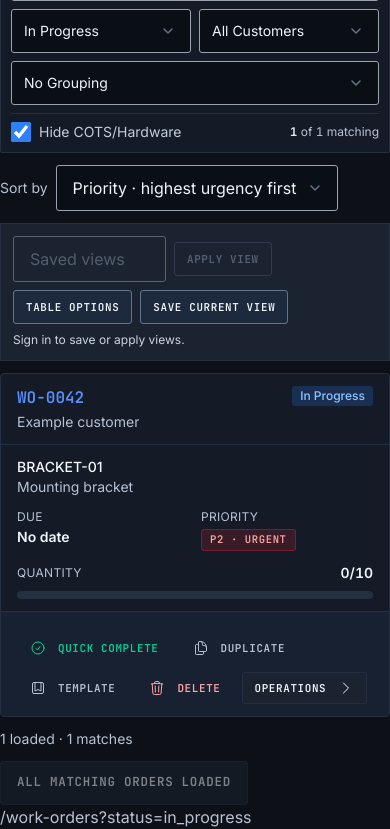
Test case: uses progressive operation numbers for mobile labels and completion when sequence is shared
(page scrolled)
Click the button "Operations": x=304, y=688 [242,672,367,704]
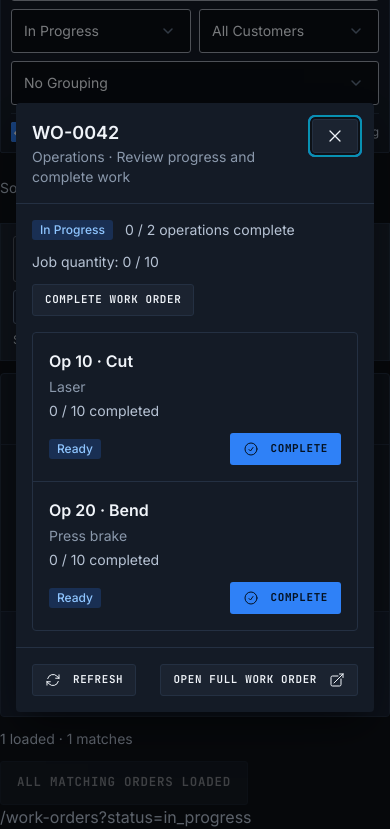
Expected: the heading "Op 20 · Bend" is shown, [49,500,149,520]
Click the button with aria-label "Complete operation 20: Bend": x=285, y=598 [230,582,341,614]
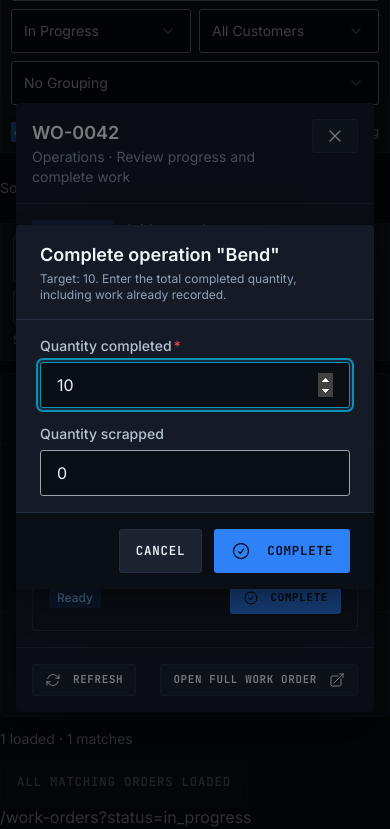
Click the button "Complete": x=282, y=551 [214,529,350,573]
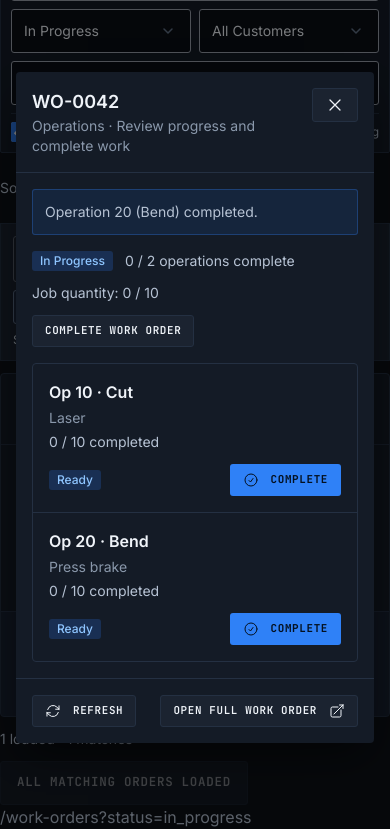
Expected: the text "Operation 20 (Bend) completed." is shown, [32,188,358,234]
